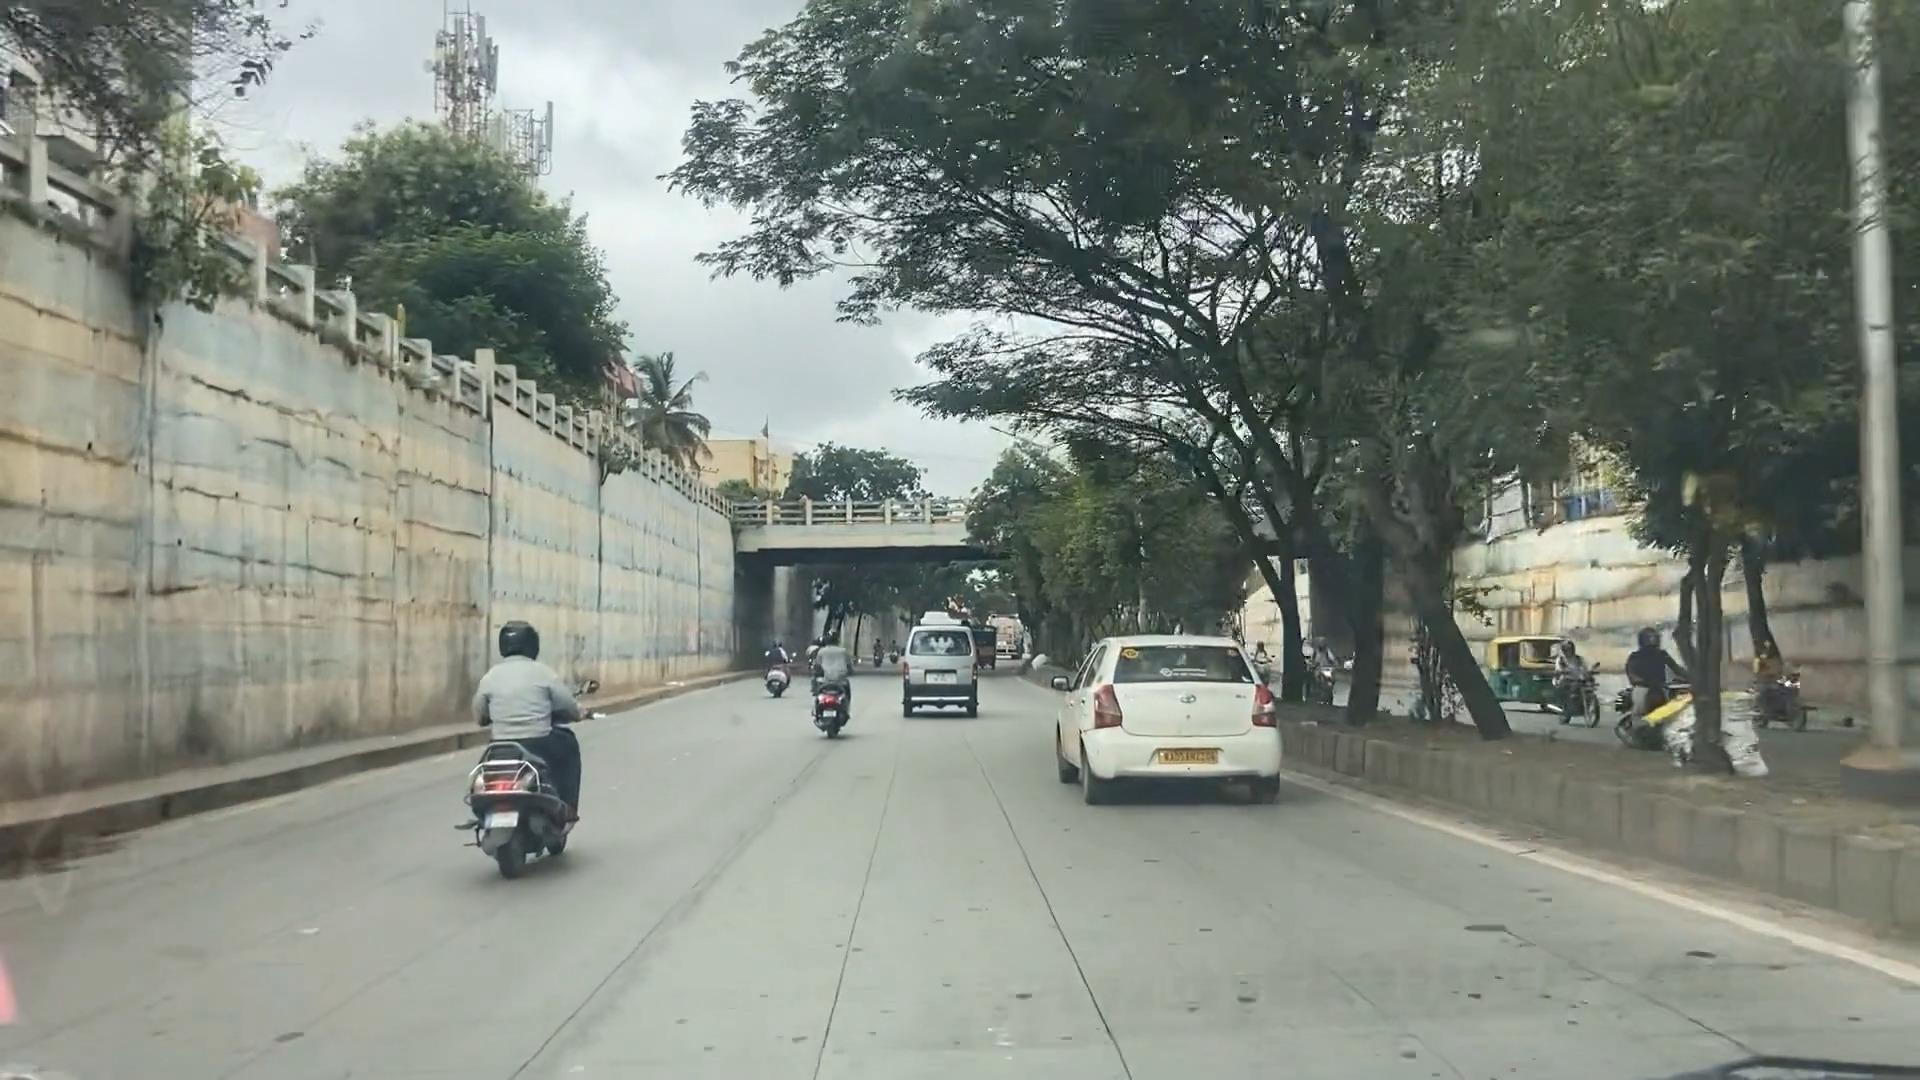LMV: (1055, 608, 1311, 835), (473, 611, 595, 881)
